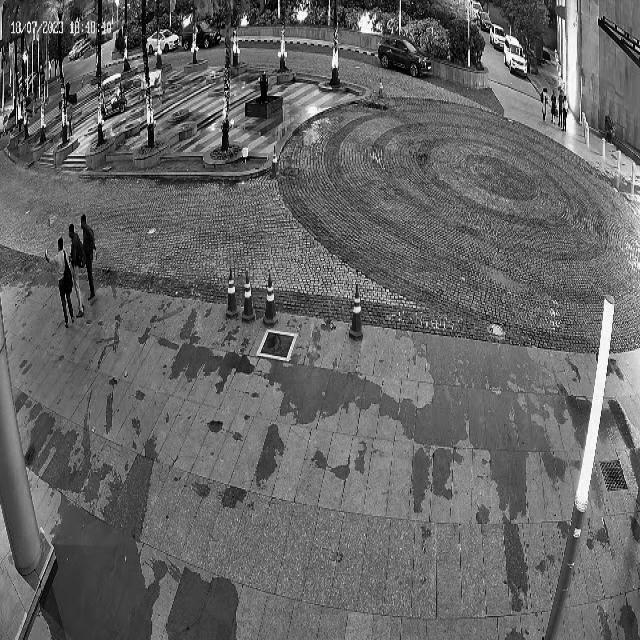person: (64, 223, 90, 327), (46, 238, 74, 328), (76, 212, 98, 310), (539, 86, 549, 120), (560, 97, 570, 131)
